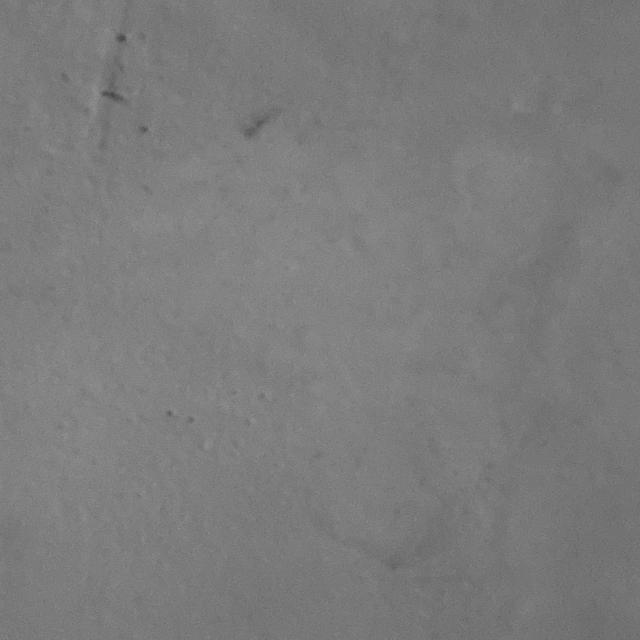rough and patchy surface: (11, 2, 621, 634)
